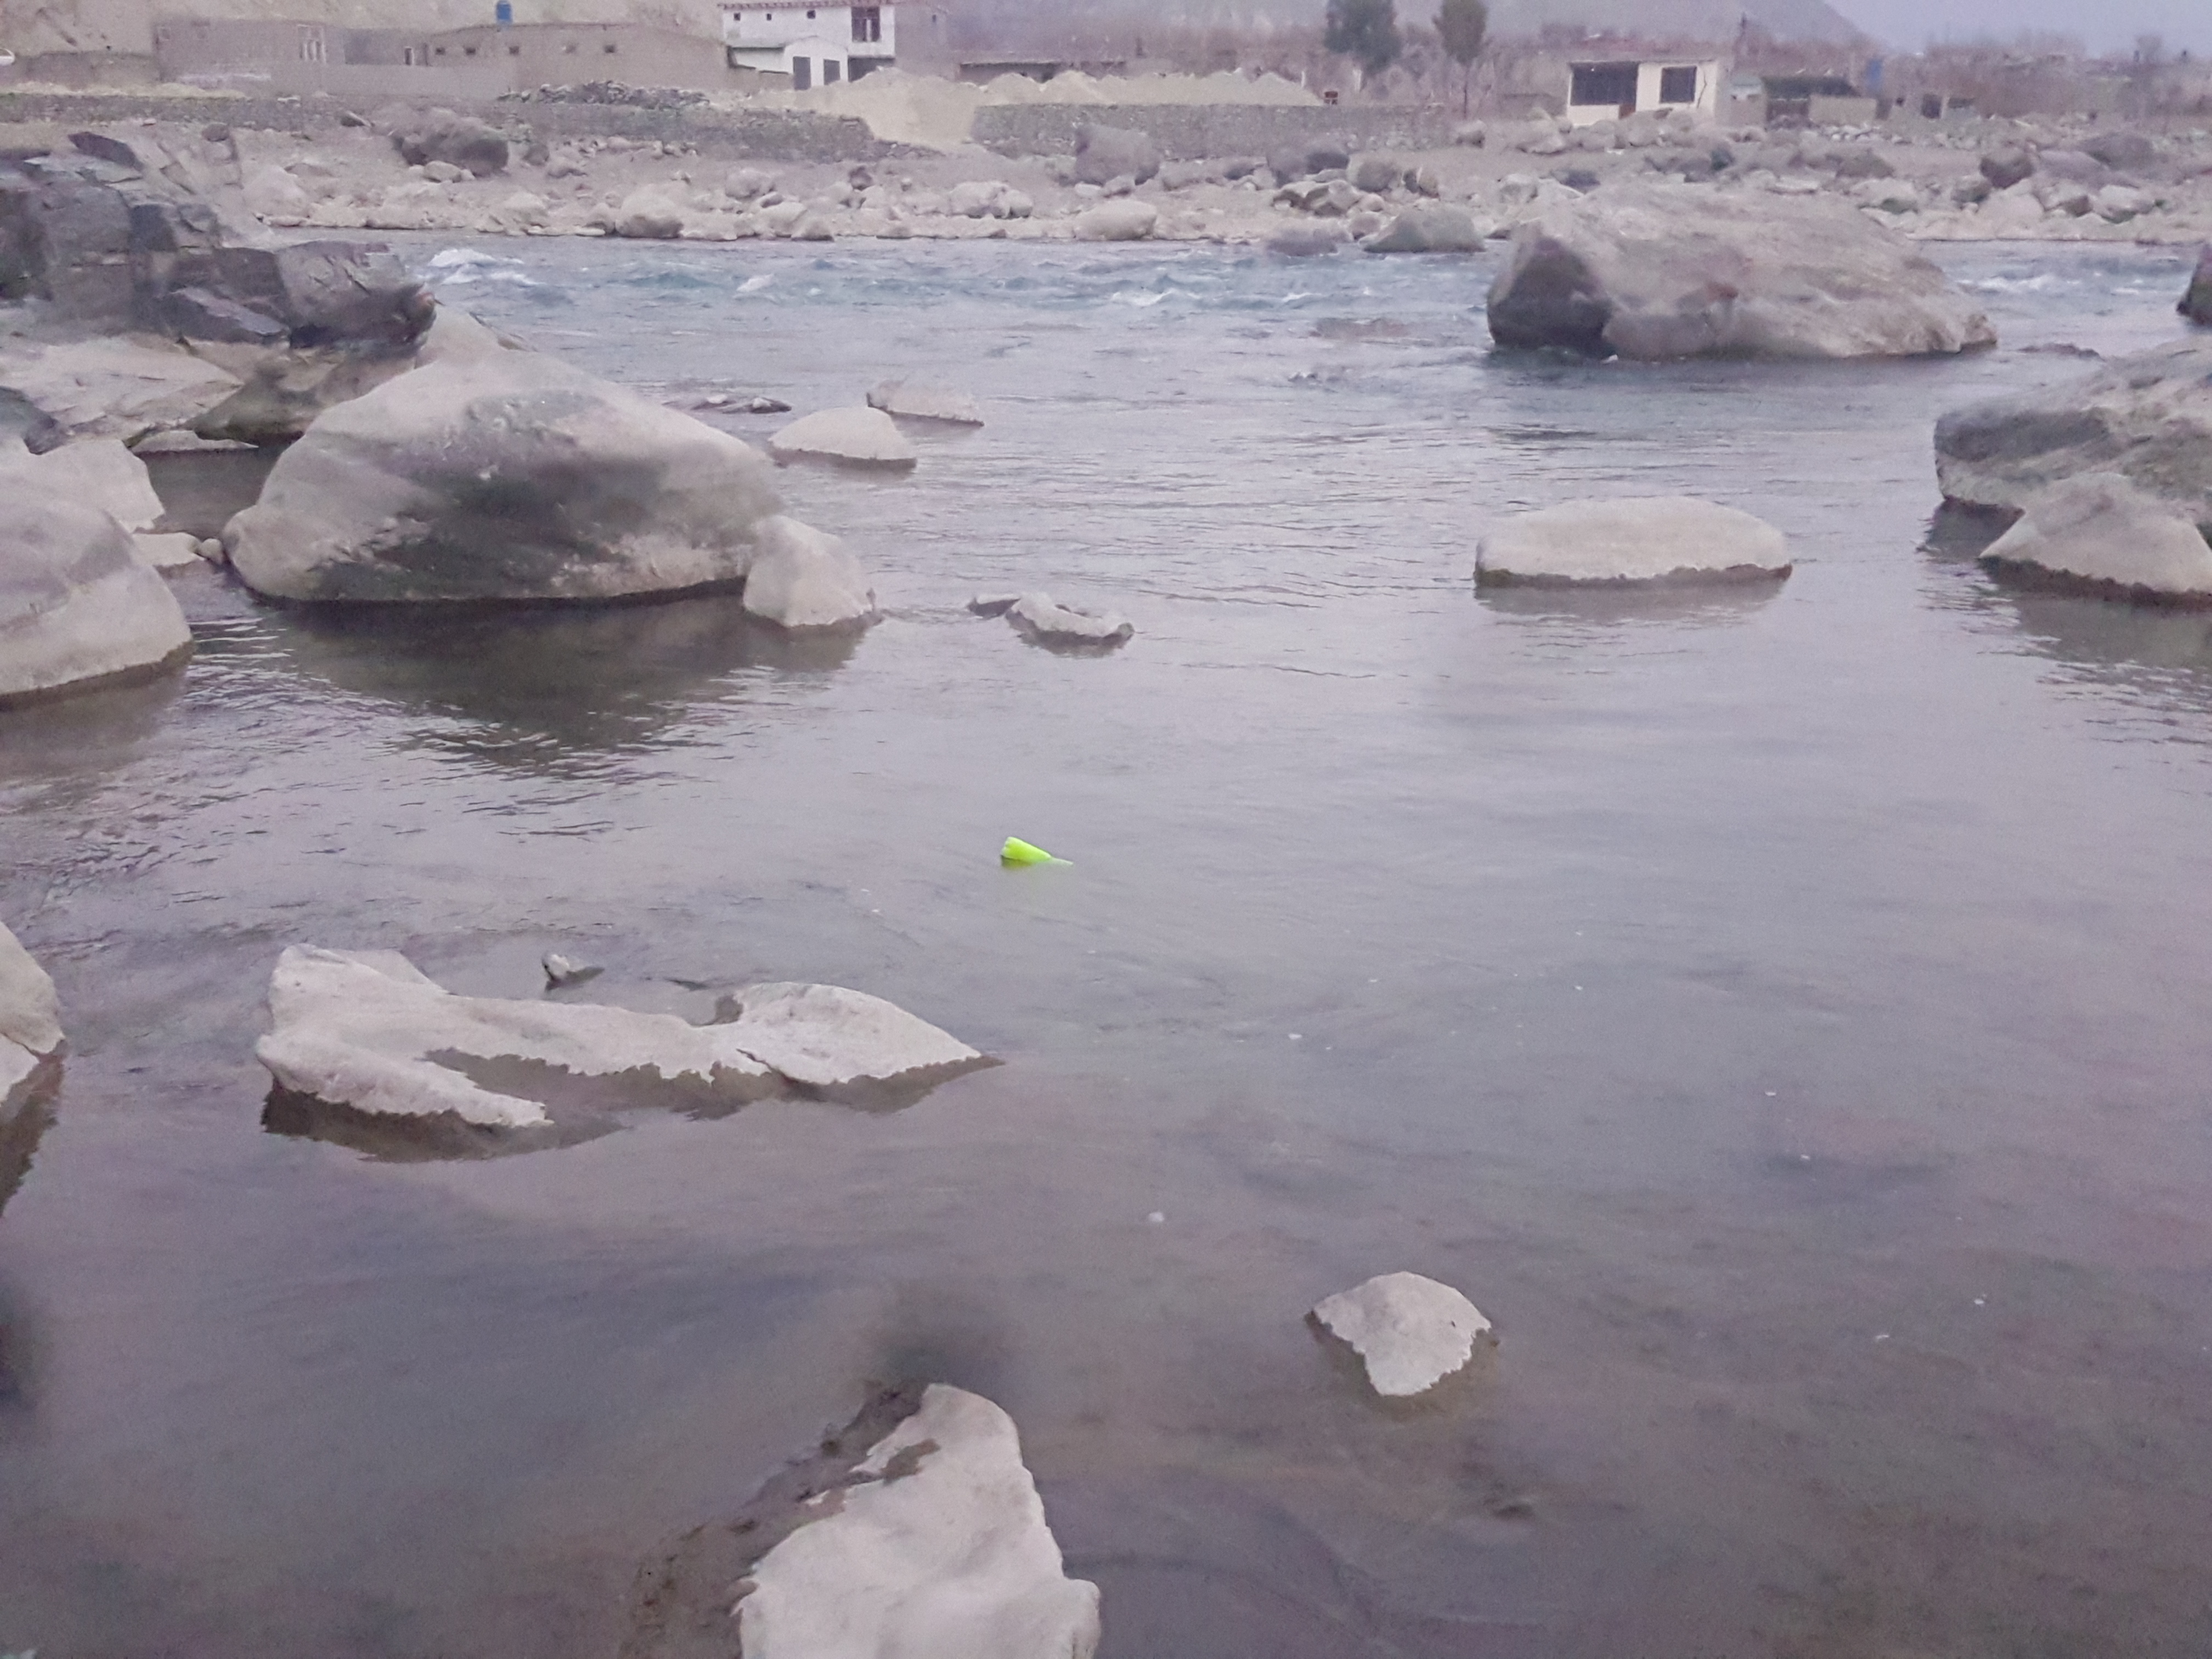Plastic Bottle: (1000, 836, 1052, 863), (1601, 354, 1618, 362)
